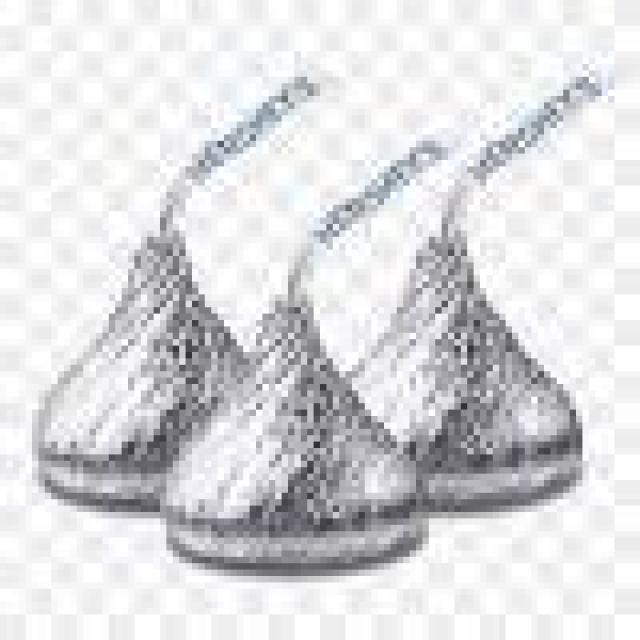kisses: (147, 270, 434, 573), (320, 212, 590, 517), (28, 210, 244, 542)
